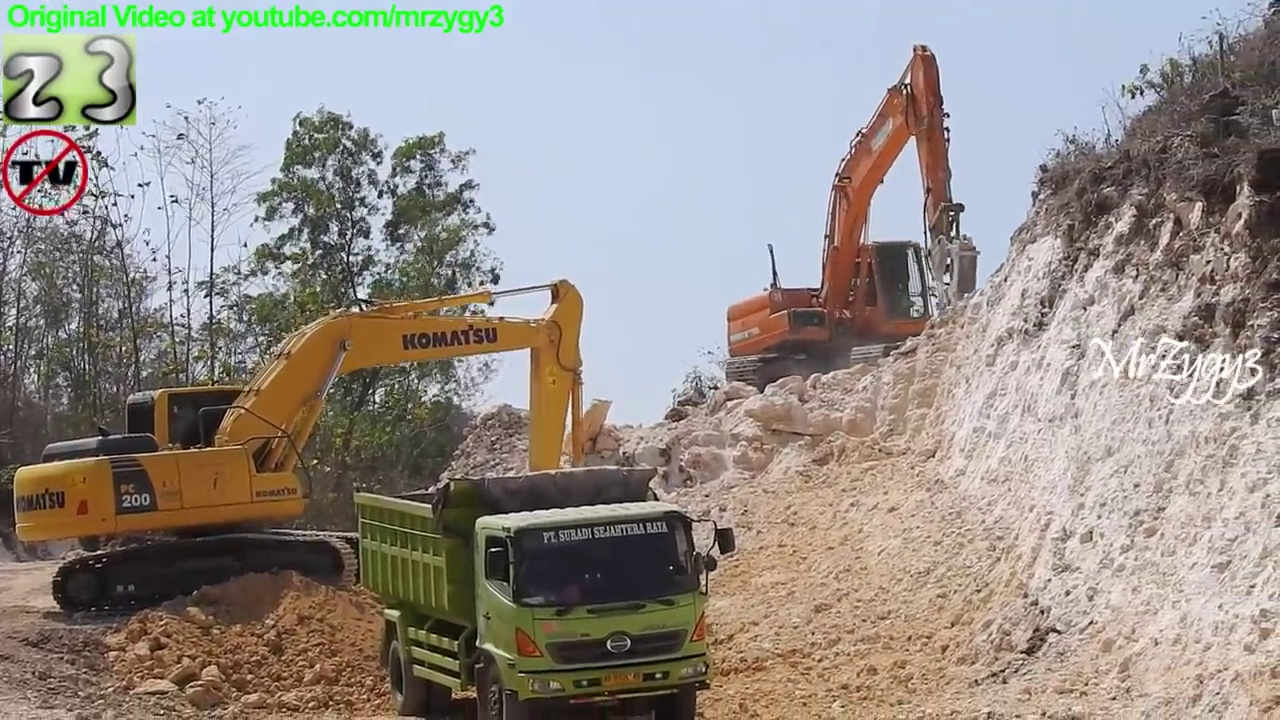excavator: (10, 275, 636, 631), (716, 38, 986, 402)
truck: (348, 462, 747, 720)
